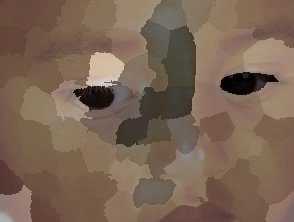vitiligo: (43, 0, 238, 222)
